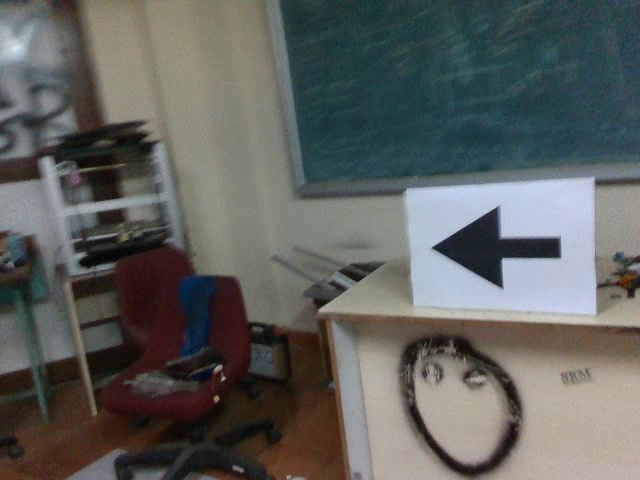Left: (427, 198, 567, 295)
